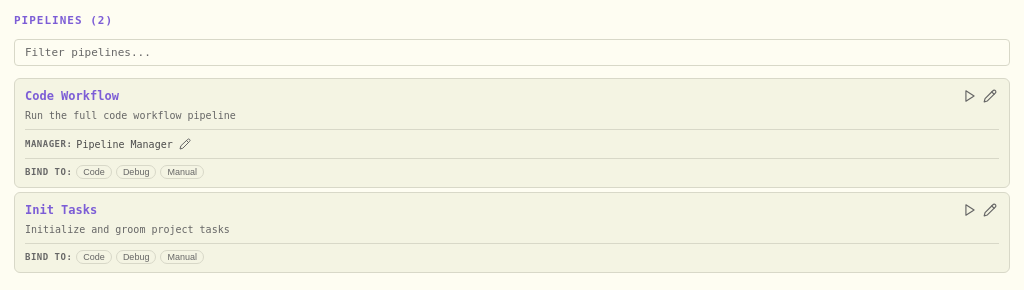
Test case: PipelinesPanel › filters pipelines by name
The width and height of the screenshot is (1024, 290).
Check: the text "Code Workflow" is shown, box x1=25 y1=89 x2=119 y2=103
Type "code" into the field with placeholder "Filter pipelines..." at (512, 52), box x1=14 y1=39 x2=1010 y2=66
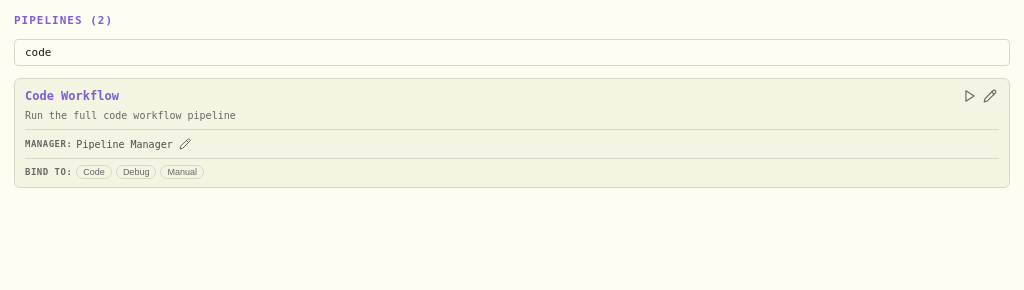
Check: the text "Code Workflow" is shown, box x1=25 y1=89 x2=119 y2=103
Check: the text "Init Tasks" is gone
